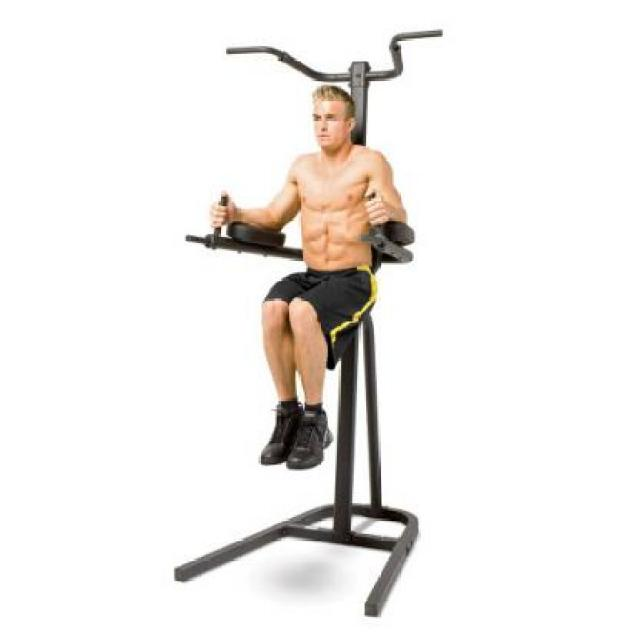chinning dipping: (174, 29, 441, 620)
